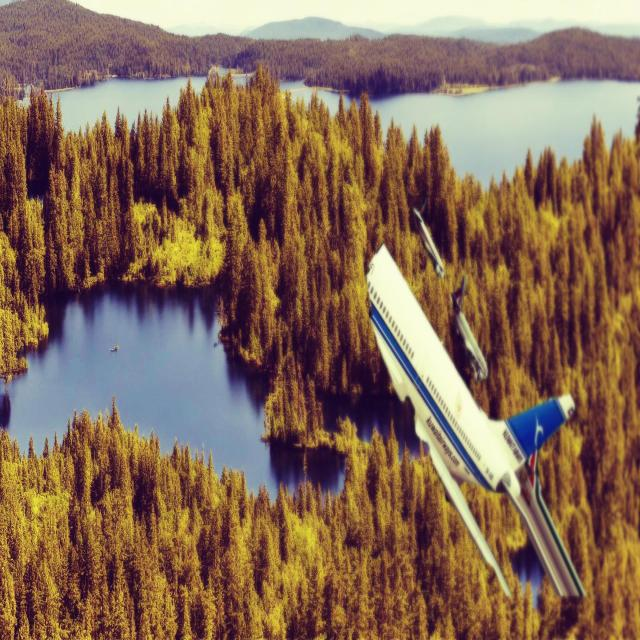airplane: (365, 241, 586, 601), (445, 276, 488, 378), (412, 209, 444, 275)
